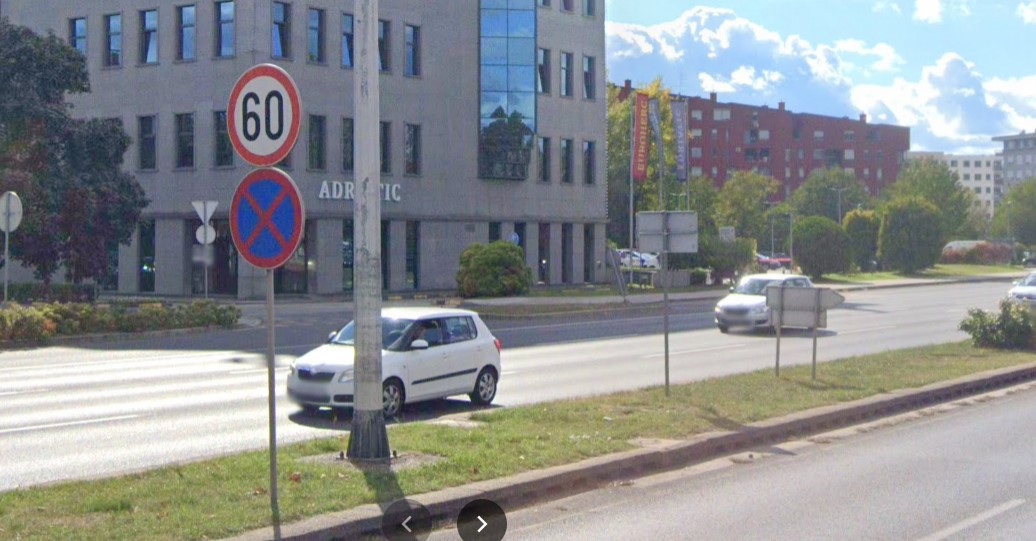Ograničenje brzine 60: (226, 63, 302, 167)
